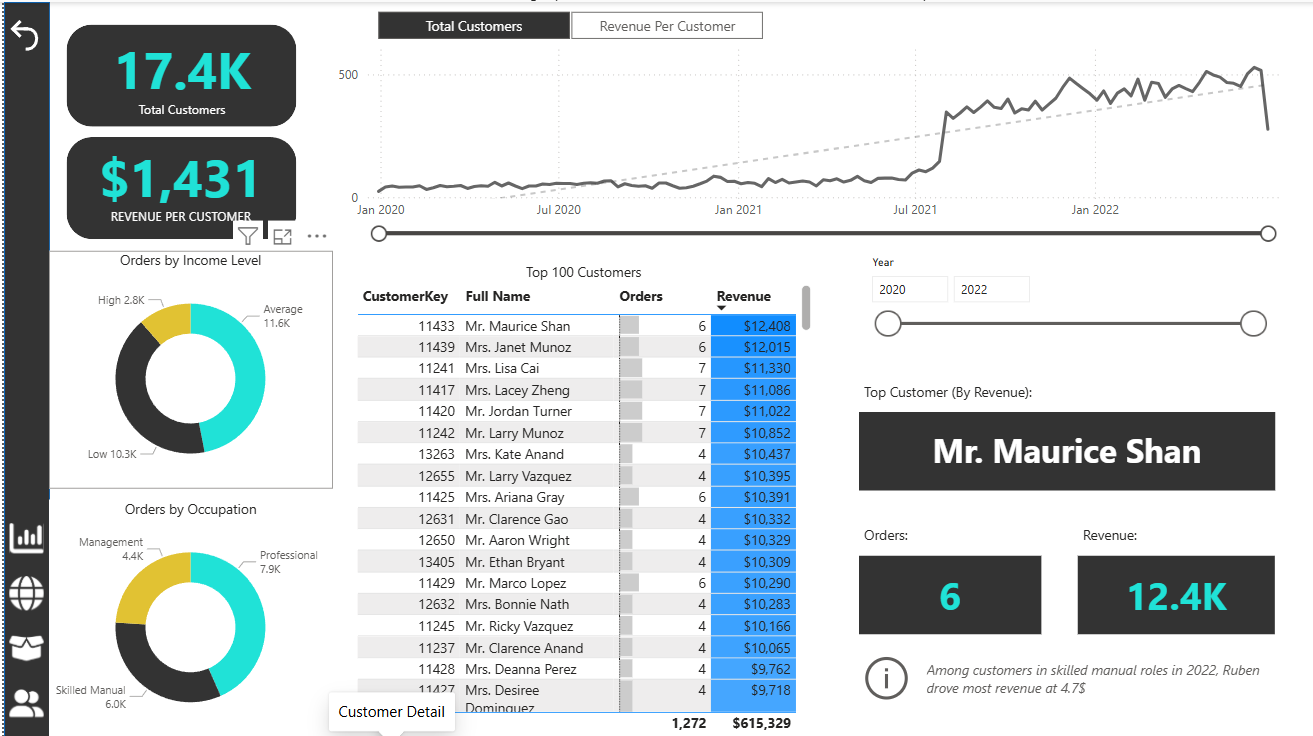

Layout of this report page (visuals, bound fields, positions):
{"tool":"powerbi","page":{"name":"Customer Detail","canvas":[1280,720],"ordinal":3},"visuals":[{"type":"shape","box":[0,0,45,720],"z":0},{"type":"shape","box":[61.7,22,225,100],"z":1000},{"type":"actionButton","box":[1.2,665.2,45.2,41.6],"z":1000,"group":"g1"},{"type":"card","fields":{"Values":["Measure Table.Total Customers"]},"box":[81.7,12,185,120],"z":2000},{"type":"actionButton","box":[1.2,503.8,45.2,41.6],"z":2000,"group":"g1"},{"type":"shape","box":[61.7,132,225,100],"z":3000},{"type":"actionButton","box":[1.2,611.4,45.2,41.6],"z":3000,"group":"g1"},{"type":"card","fields":{"Values":["Measure Table.Average Revenue Per Customer"]},"box":[81.2,122.5,185,110],"z":4000},{"type":"actionButton","box":[1.2,557.6,45.2,41.6],"z":4000,"group":"g1"},{"type":"lineChart","title":"Weekly Customers","fields":{"Category":["Calendar Lookup.Date Hierarchy.Start of Year","Calendar Lookup.Date Hierarchy.Start of Month","Calendar Lookup.Date Hierarchy.Start of Week","Calendar Lookup.Date Hierarchy.Date"],"Y":["Measure Table.Total Customers"]},"box":[321.6,33,944,204.2],"z":5000},{"type":"donutChart","title":"Orders by Income Level","fields":{"Category":["Customer Lookup.Income Level"],"Y":["Measure Table.Total Orders"]},"box":[44.3,242.9,277.1,232.9],"z":6000},{"type":"donutChart","title":"Orders by Occupation","fields":{"Category":["Customer Lookup.Occupation"],"Y":["Measure Table.Total Orders"]},"box":[44.3,487.1,277.1,232.9],"z":7000},{"type":"tableEx","title":"Top 100 Customers","fields":{"Values":["Customer Lookup.CustomerKey","Customer Lookup.Full Name","Measure Table.Total Orders","Measure Table.Total Revenue"]},"box":[340,254.3,454.3,465.7],"z":8000},{"type":"card","fields":{"Values":["Customer Lookup.Full Name (Customer Detail)"]},"box":[836,400.9,407.1,77.1],"z":9000},{"type":"card","fields":{"Values":["Measure Table.Total Orders (Customer Detail)"]},"box":[836,542.3,178.6,77.1],"z":10000},{"type":"card","fields":{"Values":["Measure Table.Total Revenue (Customer Detail)"]},"box":[1050.3,542.3,192.9,77.1],"z":11000},{"type":"textbox","box":[836,366.6,204.3,34.3],"z":12000},{"type":"textbox","box":[1050.3,508,204.3,34.3],"z":13000},{"type":"textbox","box":[836,508,204.3,34.3],"z":14000},{"type":"slicer","fields":{"Values":["Calendar Lookup.Year"]},"box":[836,243,407,92],"z":15000},{"type":"actionButton","box":[836.4,634.7,418.2,53.8],"z":16000},{"type":"actionButton","box":[0,12.2,45.2,40.4],"z":17000},{"type":"group","id":"g1","title":"Navigation buttons","box":[1.2,503.8,45.2,203],"z":18000},{"type":"slicer","fields":{"Values":["Customer Metric Selection.Customer Metric Selection"]},"box":[339.9,2.4,426.8,40.4],"z":19001}]}

Visuals, with their boxes on the page's 1280x720 design canvas (x1, y1, x2, y2). These are canvas units, not pixel positions in the 1313x736 screenshot, which may show the page scaled, cropped or inside an application window:
shape: pyautogui.locateOnScreen(0, 0, 45, 720)
shape: pyautogui.locateOnScreen(62, 22, 287, 122)
actionButton: pyautogui.locateOnScreen(1, 665, 46, 707)
card - Measure Table.Total Customers: pyautogui.locateOnScreen(82, 12, 267, 132)
actionButton: pyautogui.locateOnScreen(1, 504, 46, 545)
shape: pyautogui.locateOnScreen(62, 132, 287, 232)
actionButton: pyautogui.locateOnScreen(1, 611, 46, 653)
card - Measure Table.Average Revenue Per Customer: pyautogui.locateOnScreen(81, 122, 266, 232)
actionButton: pyautogui.locateOnScreen(1, 558, 46, 599)
"Weekly Customers" lineChart: pyautogui.locateOnScreen(322, 33, 1266, 237)
"Orders by Income Level" donutChart: pyautogui.locateOnScreen(44, 243, 321, 476)
"Orders by Occupation" donutChart: pyautogui.locateOnScreen(44, 487, 321, 720)
"Top 100 Customers" tableEx: pyautogui.locateOnScreen(340, 254, 794, 720)
card - Customer Lookup.Full Name (Customer Detail): pyautogui.locateOnScreen(836, 401, 1243, 478)
card - Measure Table.Total Orders (Customer Detail): pyautogui.locateOnScreen(836, 542, 1015, 619)
card - Measure Table.Total Revenue (Customer Detail): pyautogui.locateOnScreen(1050, 542, 1243, 619)
textbox: pyautogui.locateOnScreen(836, 367, 1040, 401)
textbox: pyautogui.locateOnScreen(1050, 508, 1255, 542)
textbox: pyautogui.locateOnScreen(836, 508, 1040, 542)
slicer - Calendar Lookup.Year: pyautogui.locateOnScreen(836, 243, 1243, 335)
actionButton: pyautogui.locateOnScreen(836, 635, 1255, 688)
actionButton: pyautogui.locateOnScreen(0, 12, 45, 53)
"Navigation buttons" group: pyautogui.locateOnScreen(1, 504, 46, 707)
slicer - Customer Metric Selection.Customer Metric Selection: pyautogui.locateOnScreen(340, 2, 767, 43)
